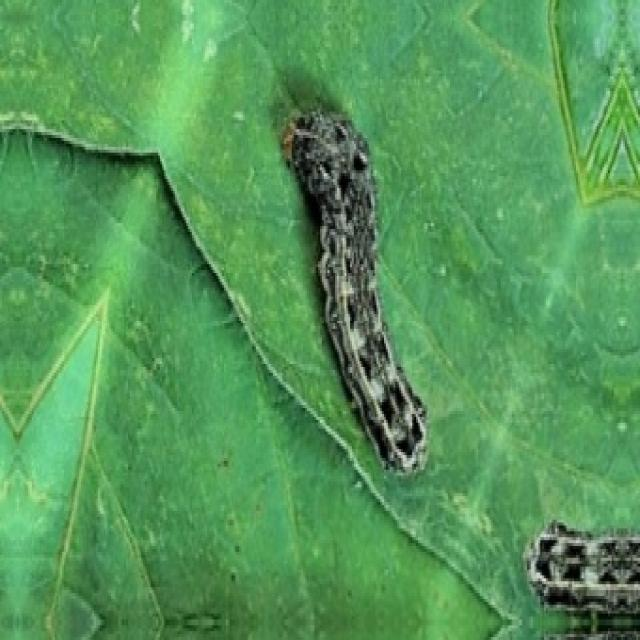Armyworm: (257, 92, 467, 499), (523, 453, 639, 640)
